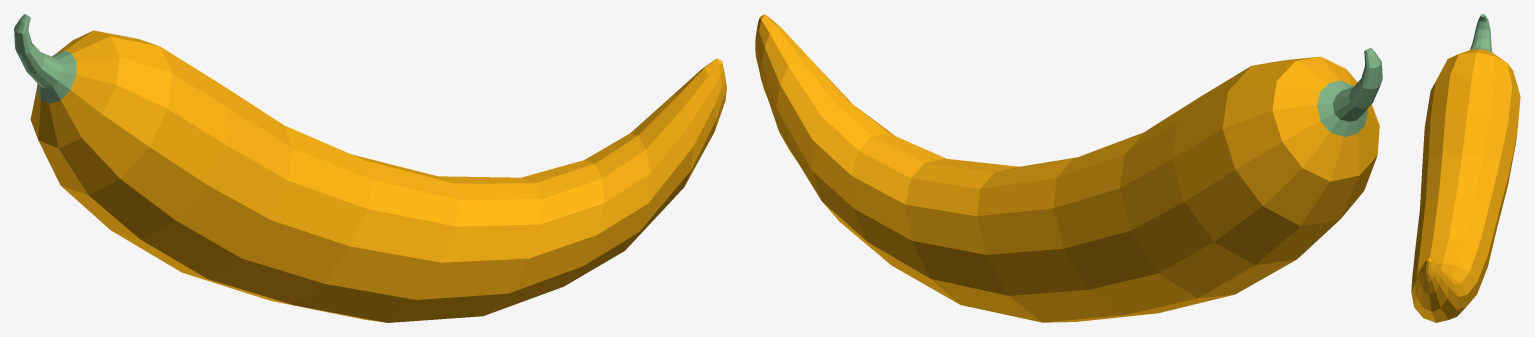
The model's file is chili3.fbx.
3 renders of one model, left to right at view 1: azimuth 30°, elevation 25°; view 2: azimuth 150°, elevation 25°; view 3: azimuth 270°, elevation 25°, orthographic. The views are drawn at different scales.
Parts seen in each view (by area): view 1: chili3; view 2: chili3; view 3: chili3.
Part boxes in pixels (x1,y1,x2,y2): chili3: [14, 14, 726, 322]; chili3: [755, 14, 1382, 322]; chili3: [1411, 14, 1520, 322].
Bounding box in the file's own units: 89.29 × 48.37 × 24.92.
